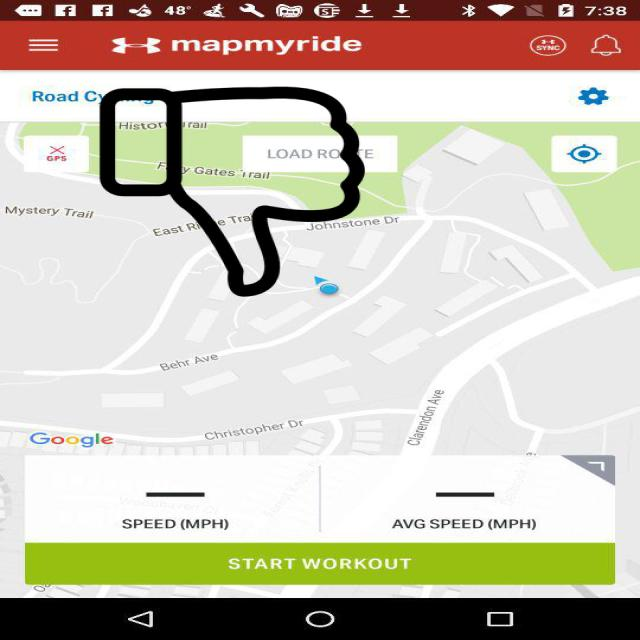obstruction: (96, 86, 369, 296)
